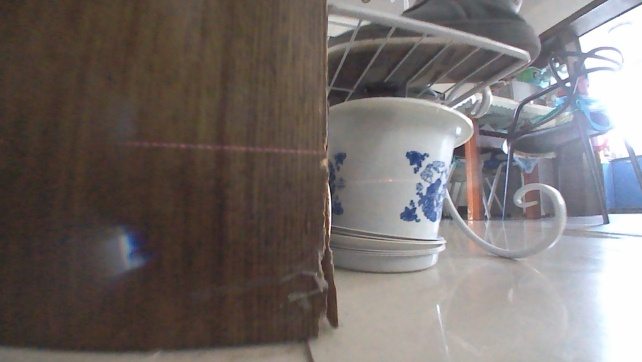dining_table: (454, 43, 627, 226)
